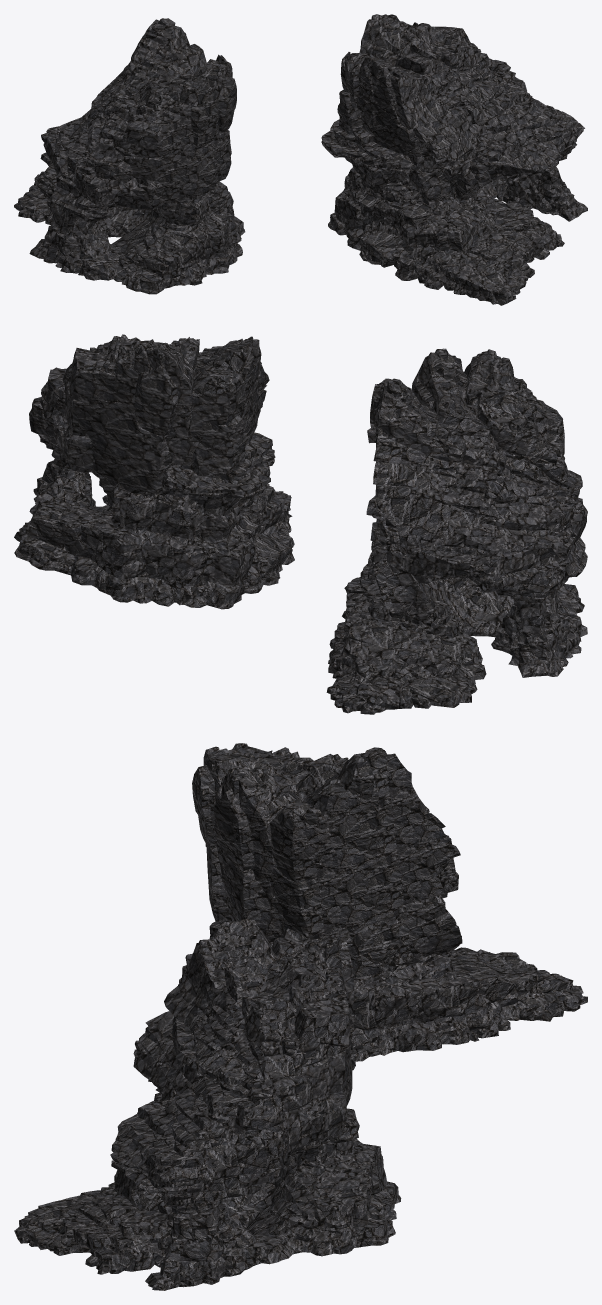
File: Brinebreak Isle Main rock.fbx
3 views of the same model, one above another, from view 1: azimuth 30°, elevation 25°; view 2: azimuth 150°, elevation 25°; view 3: azimuth 270°, elevation 25° (orthographic). The views are drawn at different scales.
Visible parts, largest first — view 1: geometry_0.001, geometry_0; view 2: geometry_0, geometry_0.001; view 3: geometry_0.001, geometry_0.
Part boxes in pixels (x1=…): geometry_0.001: x1=321, y1=14, x2=587, y2=305; geometry_0: x1=14, y1=18, x2=245, y2=294; geometry_0: x1=326, y1=348, x2=587, y2=714; geometry_0.001: x1=14, y1=334, x2=294, y2=609; geometry_0.001: x1=14, y1=918, x2=401, y2=1290; geometry_0: x1=179, y1=743, x2=587, y2=1061.
Size of the model in its own units: 3423 by 1665 by 2518.
2 materials, 2 textured.
